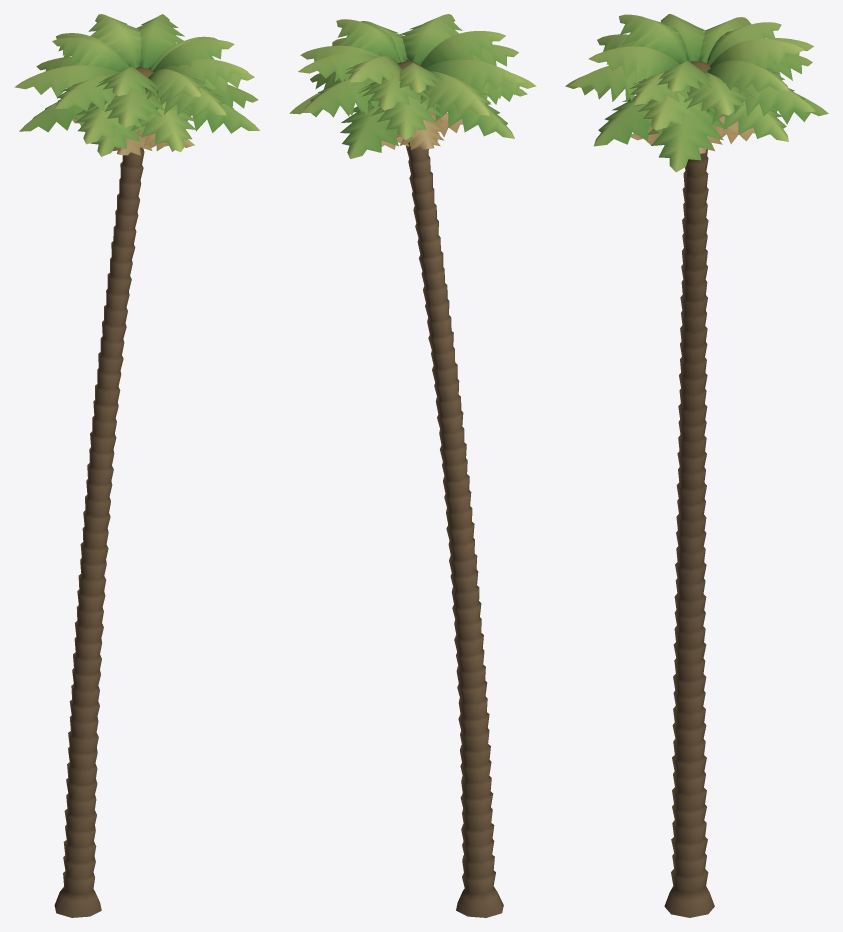
The model's file is PalmFan.fbx.
3 renders of one model, left to right at view 1: azimuth 30°, elevation 25°; view 2: azimuth 150°, elevation 25°; view 3: azimuth 270°, elevation 25°, orthographic. The views are drawn at different scales.
Parts seen in each view (by area): view 1: PalmFan; view 2: PalmFan; view 3: PalmFan.
Boxes of the visible parts, box(x1,y1,x2,y2) form: PalmFan: box(14, 14, 259, 917); PalmFan: box(289, 14, 536, 917); PalmFan: box(565, 14, 828, 917).
Size of the model in its own units: 4.54 by 16.57 by 4.38.
